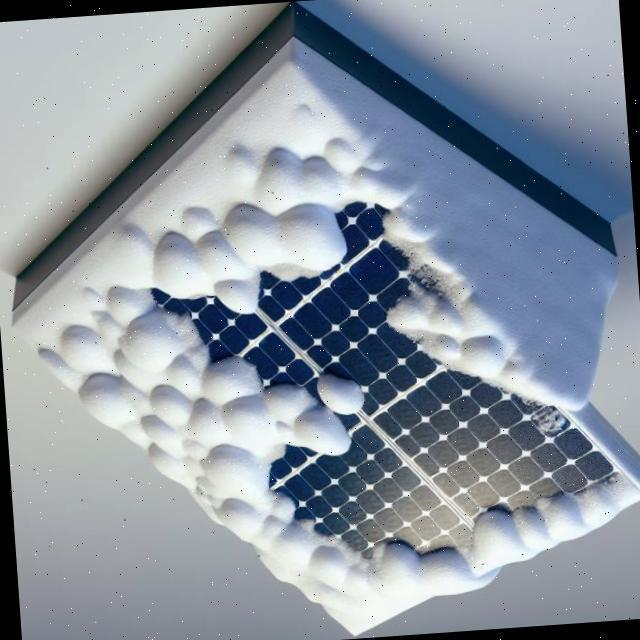Anomaly Solar Panel: (14, 60, 640, 636)
Snow: (15, 62, 640, 634)
